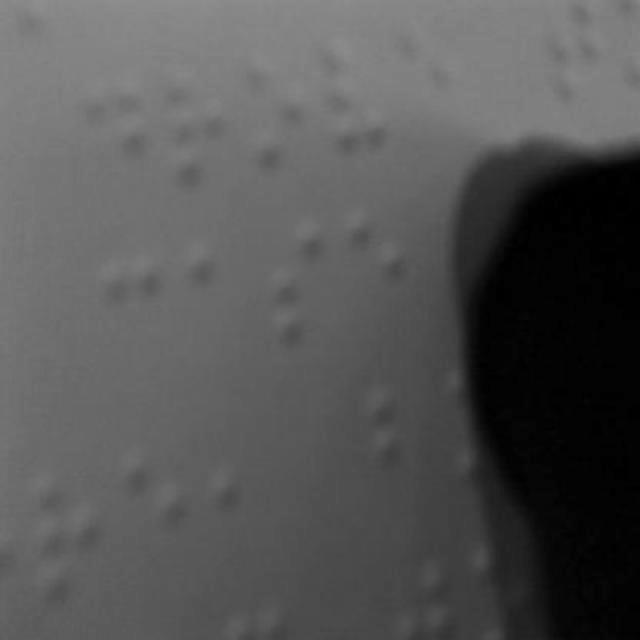braiile: (29, 463, 115, 603), (122, 432, 202, 578), (248, 49, 324, 187), (212, 417, 286, 557), (96, 241, 172, 377), (346, 199, 414, 339), (401, 18, 471, 152), (166, 65, 238, 191), (187, 232, 256, 358), (328, 30, 394, 160), (82, 68, 152, 190), (272, 216, 332, 344)
